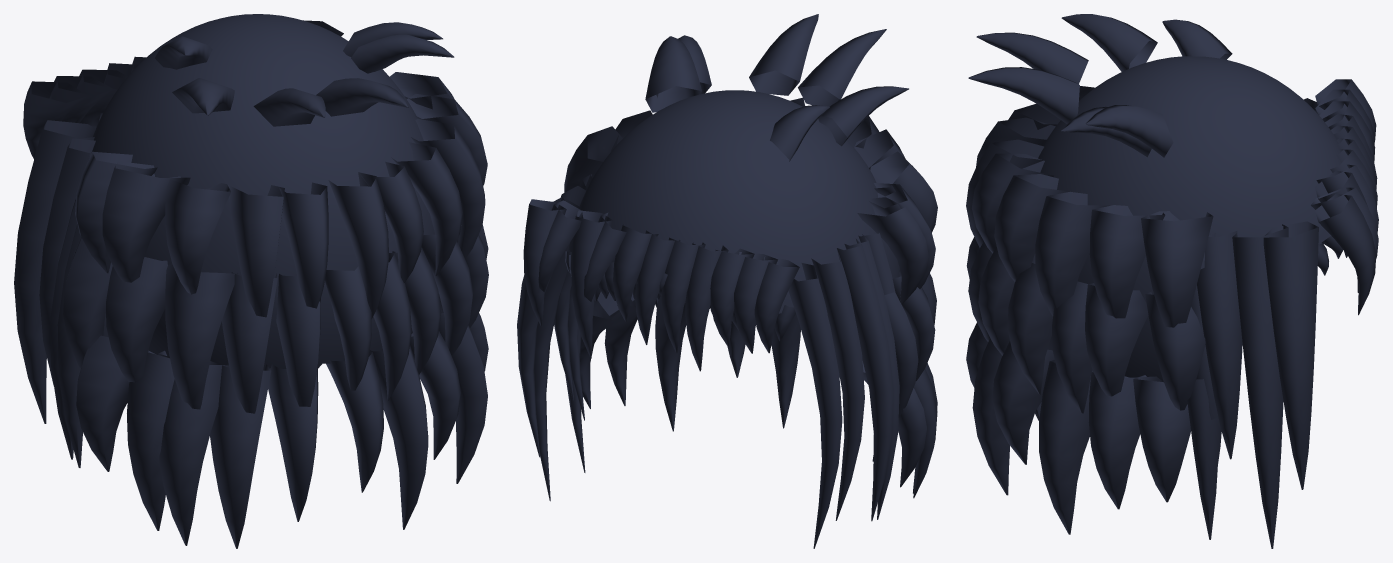
The model's file is anime_hair_hero.glb.
3 renders of one model, left to right at view 1: azimuth 30°, elevation 25°; view 2: azimuth 150°, elevation 25°; view 3: azimuth 270°, elevation 25°, orthographic. The views are drawn at different scales.
Parts seen in each view (by area): view 1: hair, hair_cap; view 2: hair, hair_cap; view 3: hair, hair_cap.
Boxes of the visible parts, x1,y1,x2,y2 form: hair: [14, 20, 488, 548]; hair_cap: [91, 14, 435, 369]; hair: [517, 14, 937, 548]; hair_cap: [568, 90, 899, 315]; hair: [966, 14, 1378, 548]; hair_cap: [1038, 56, 1341, 382].
Size of the model in its own units: 0.356 by 0.3921 by 0.3471.
